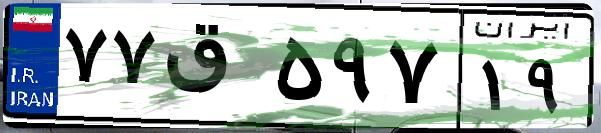1: (475, 38, 525, 113)
5: (270, 28, 330, 110)
7: (385, 28, 445, 110), (57, 26, 110, 100), (110, 28, 158, 98)
9: (330, 28, 385, 110), (525, 38, 570, 115)
ق: (158, 20, 270, 120)
